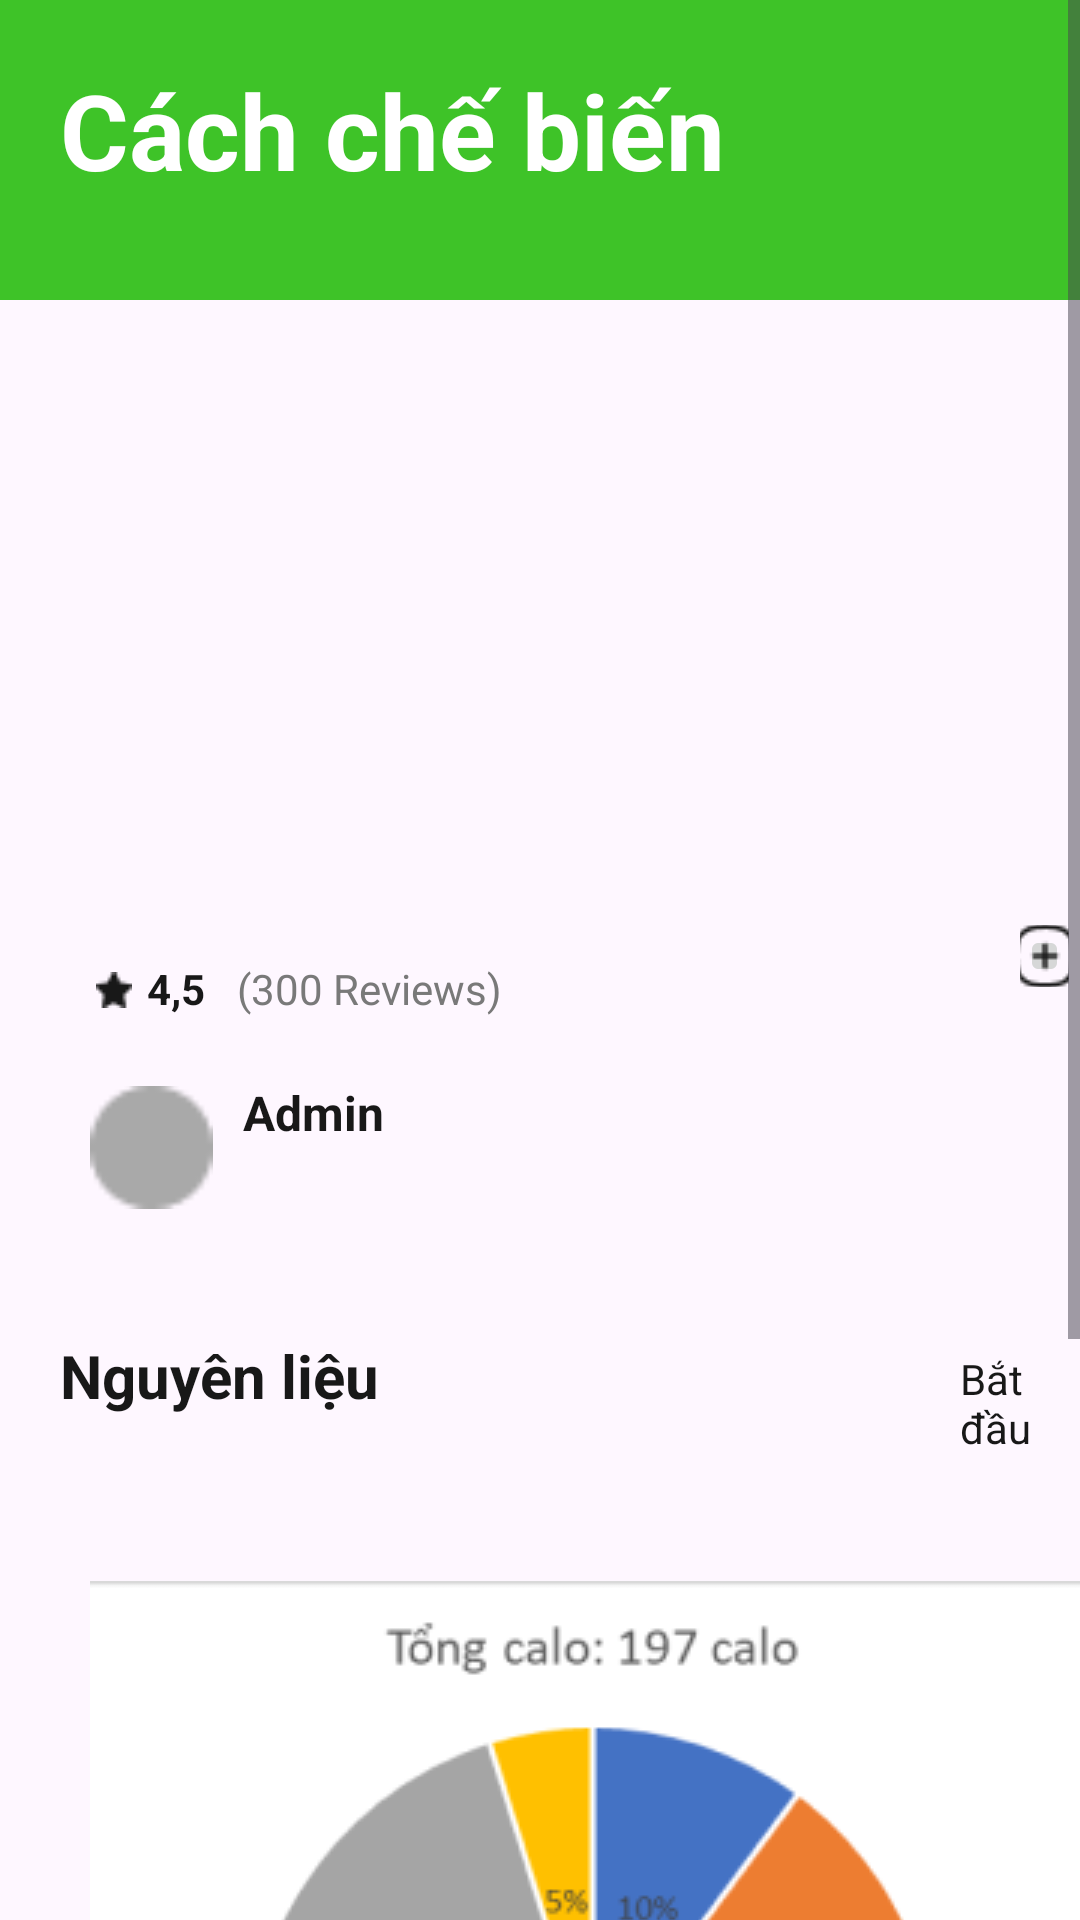

Icons on this 1080w x 1920h Android screen, each with its box as Rect(x1, y1, x2, y2):
star: Rect(96, 972, 132, 1008)
